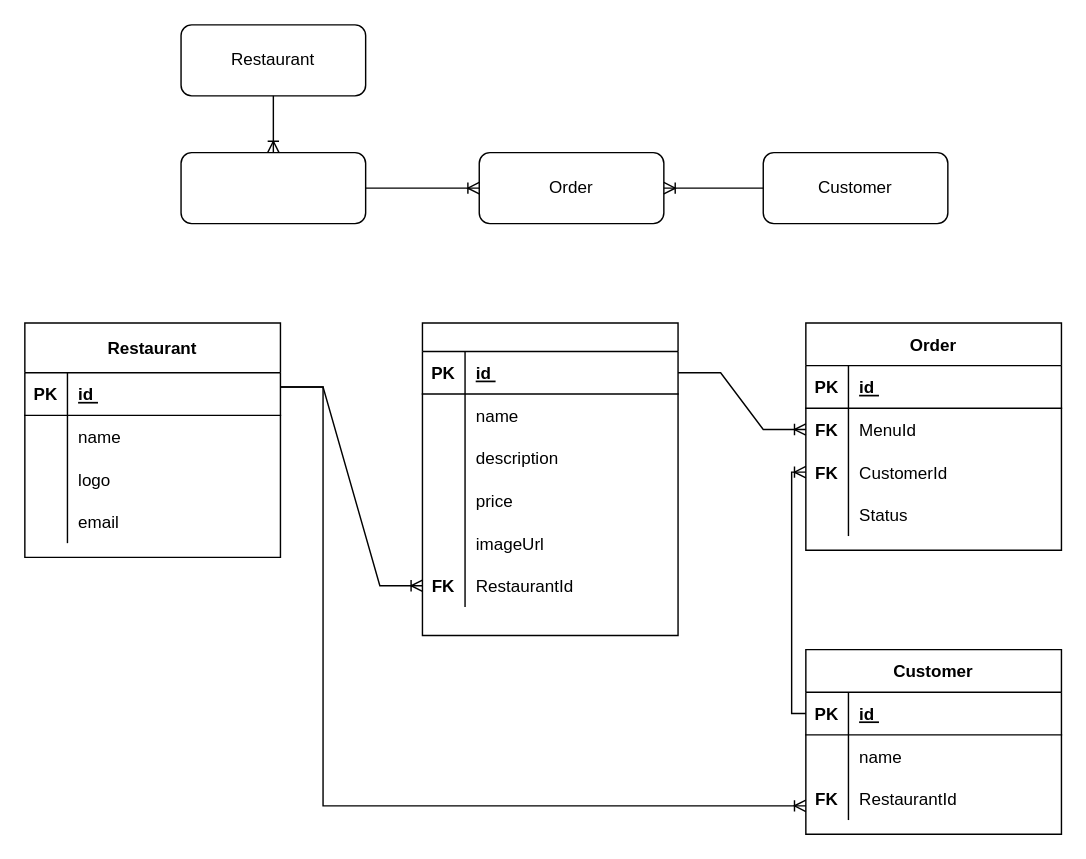
The diagram is 1086 pixels wide and 859 high, and some of its shapes have lost their labels. The box of each missing label's shape, as (x1, y1, x2, y2) in pixels:
Menu: (180, 151, 366, 224)
Menus: (421, 322, 678, 635)
